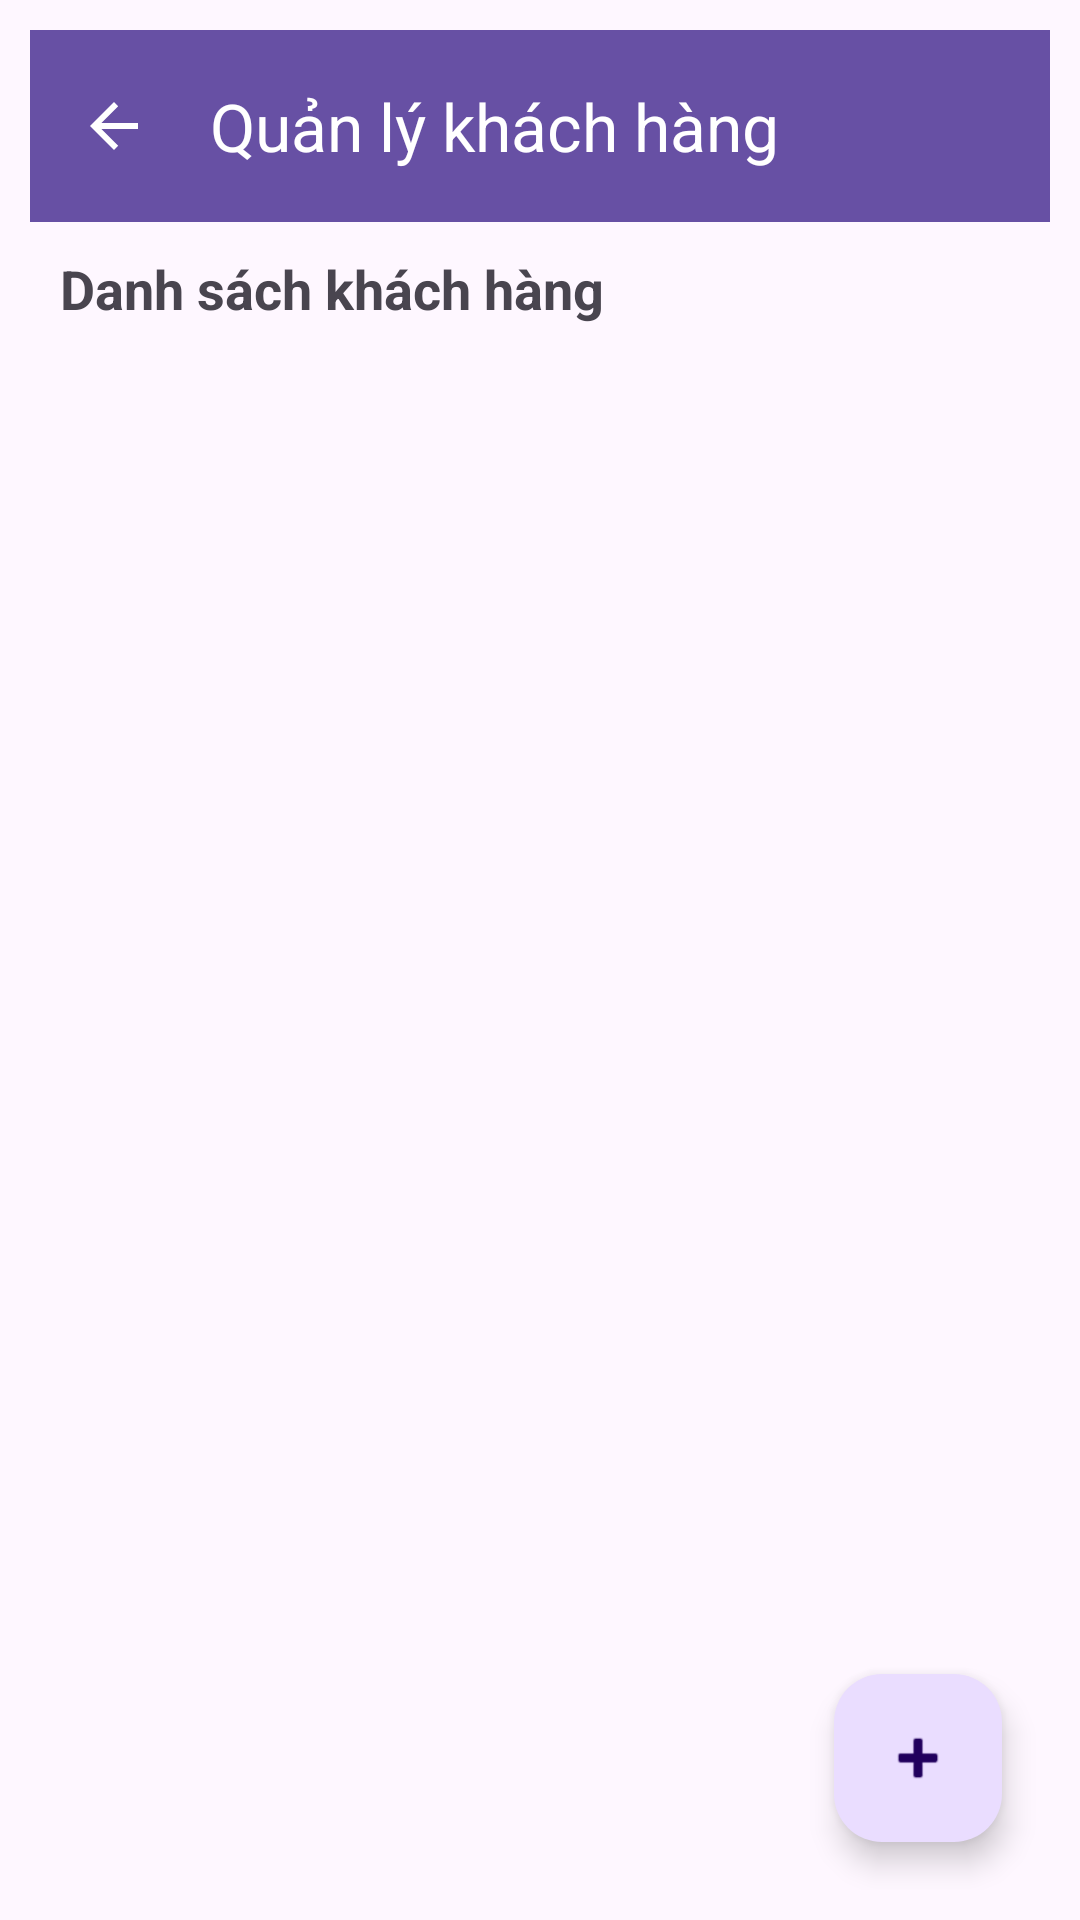

Where to tap for icons on this 1080x1920 app screen, as (x=x, y=y):
Thêm danh mục: (x=918, y=1758)
